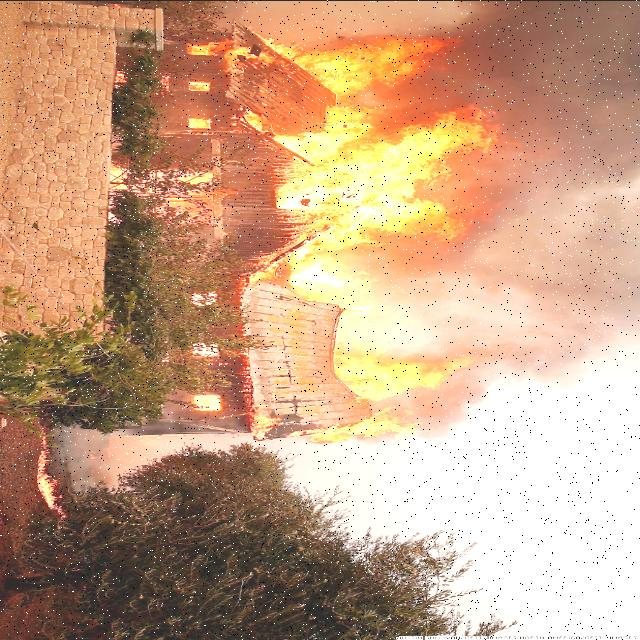api: (282, 110, 484, 212), (279, 35, 421, 94), (337, 342, 483, 396), (305, 211, 467, 253), (301, 417, 419, 449), (276, 259, 374, 291), (184, 37, 272, 69), (38, 450, 58, 508), (231, 105, 269, 133), (340, 303, 368, 317)
asap: (491, 1, 638, 426), (376, 259, 496, 341), (426, 1, 490, 109), (416, 402, 488, 456)
